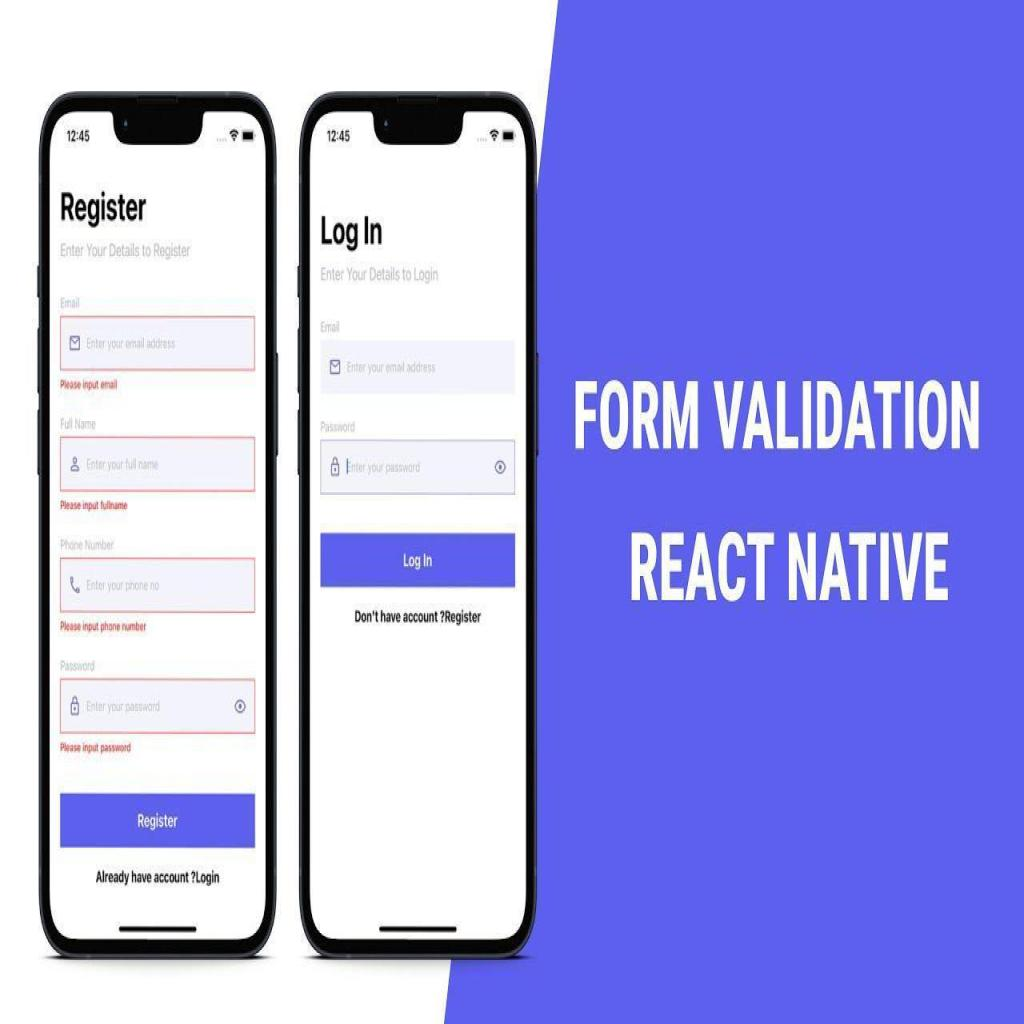button: (319, 529, 517, 592), (58, 791, 257, 849)
icon: (68, 691, 82, 720), (492, 456, 510, 476), (68, 569, 81, 596), (328, 454, 342, 478), (68, 448, 80, 475), (68, 330, 82, 353), (233, 694, 248, 715), (328, 356, 342, 376)
input: (318, 438, 518, 498), (59, 678, 257, 736), (59, 555, 256, 613), (58, 434, 257, 490), (59, 316, 256, 371), (320, 340, 516, 392)
label: (60, 619, 146, 634), (59, 496, 129, 512), (59, 740, 133, 755), (59, 378, 119, 394), (60, 535, 114, 552), (60, 414, 97, 432), (59, 656, 95, 674), (56, 290, 82, 314), (320, 418, 355, 435), (320, 319, 342, 337)
